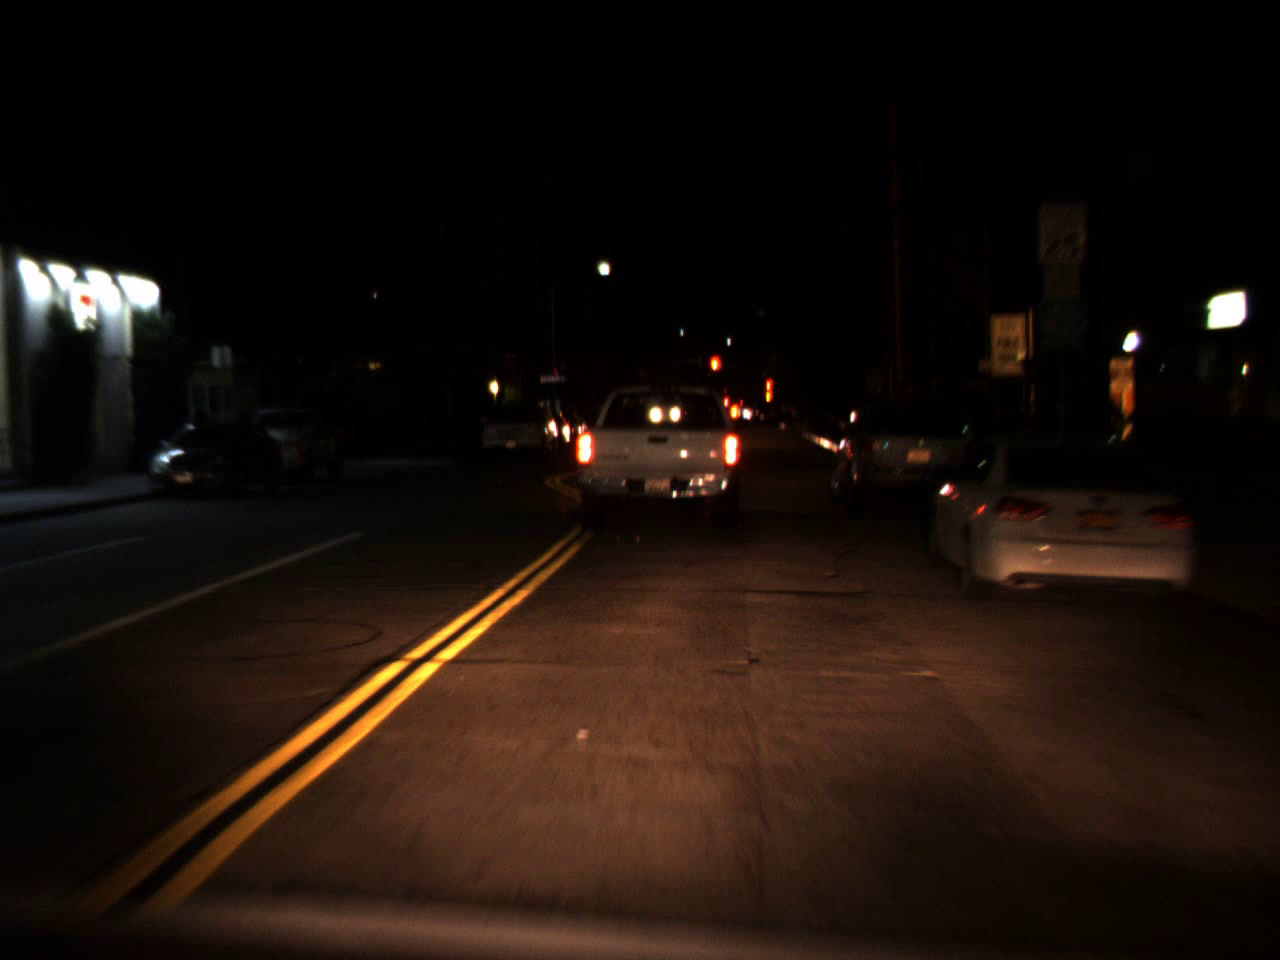stop: (709, 355, 721, 387), (762, 374, 775, 403)
